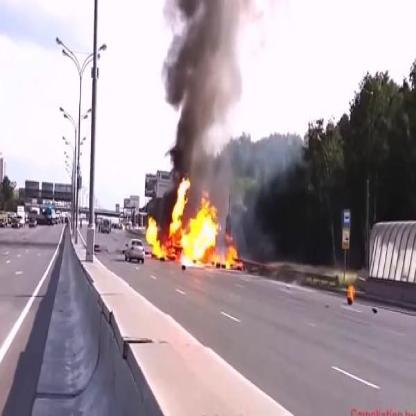fire: (146, 175, 244, 276), (347, 284, 355, 300)
